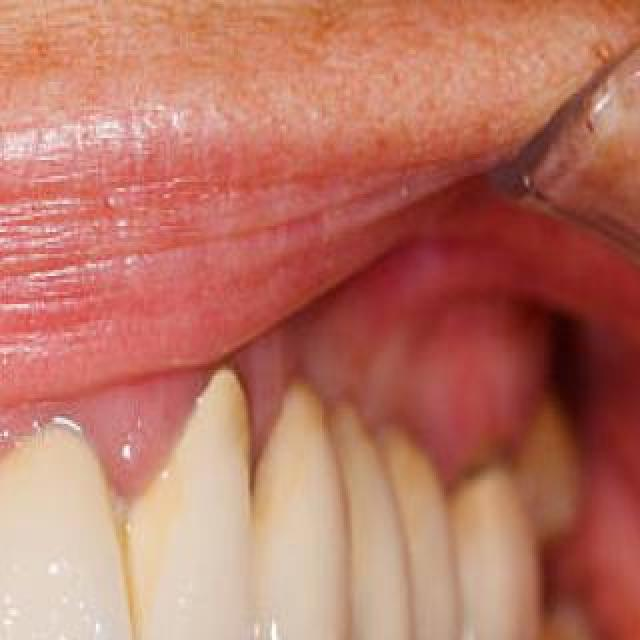plaque: (101, 455, 179, 637)
stains: (259, 379, 339, 519), (377, 418, 441, 540), (214, 386, 264, 516), (538, 612, 614, 640)
